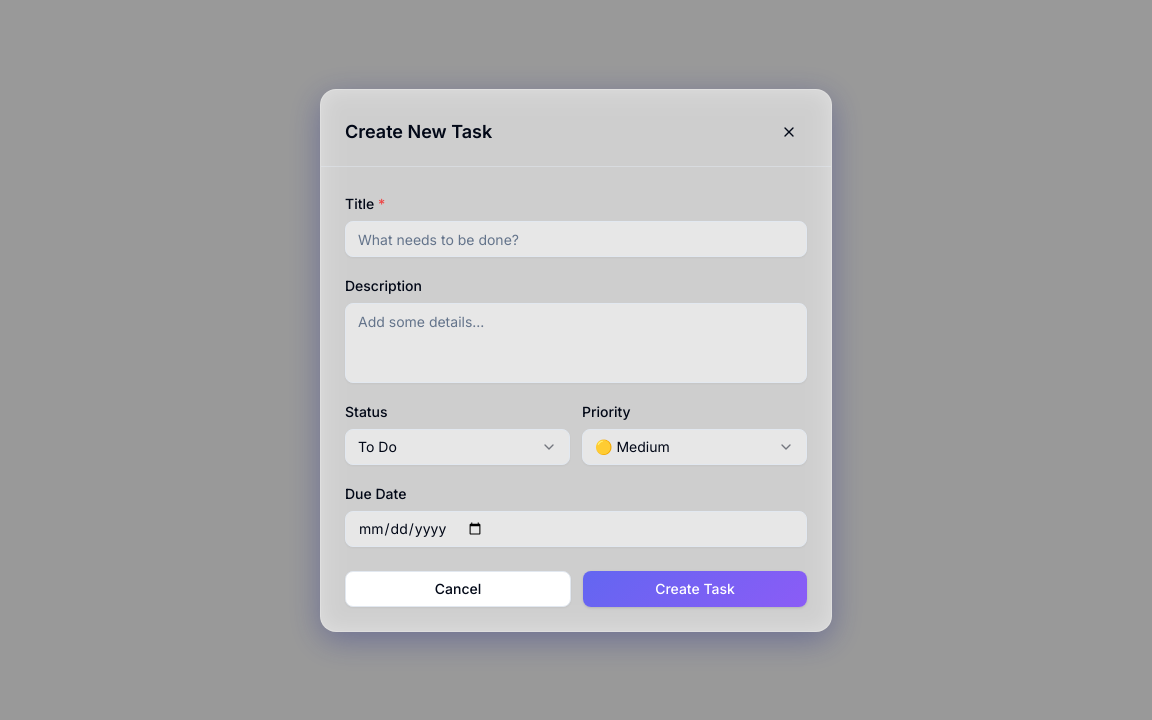
Test: TaskForm validation › shows error when title is empty on submit
Note: Click submit without filling title
Click the button "Create Task". click: click(695, 588)
box: [583, 570, 807, 606]
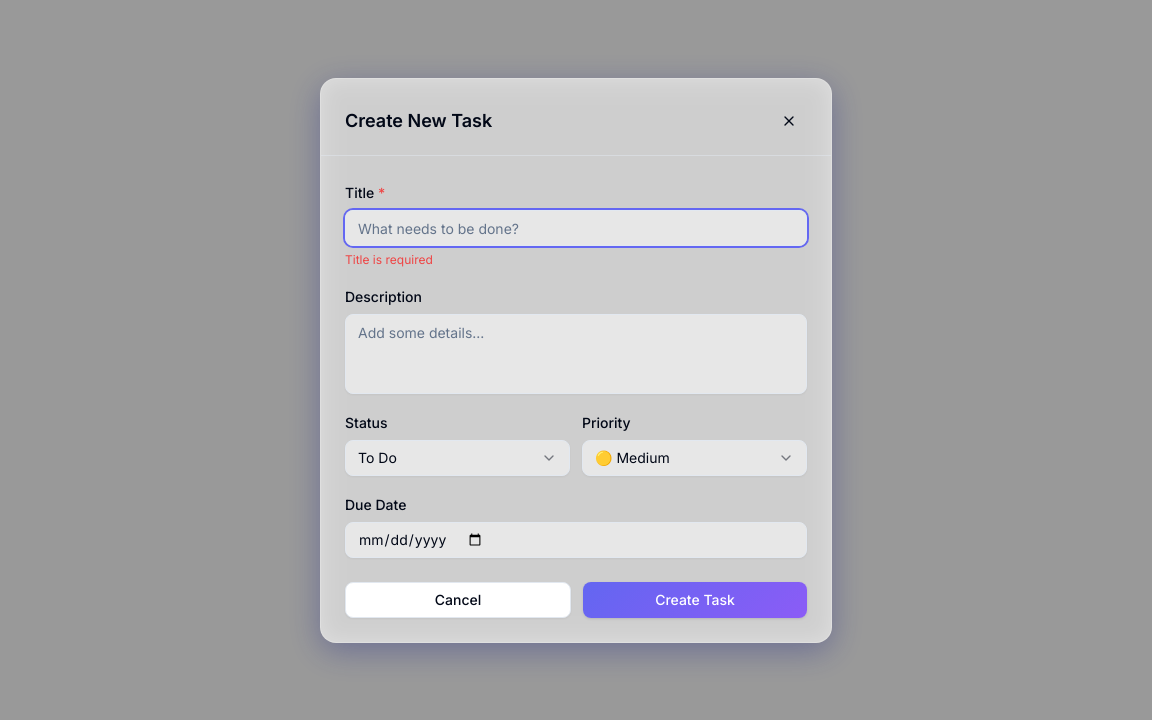
Now the text "Title is required" is shown, box [345, 252, 433, 266]
